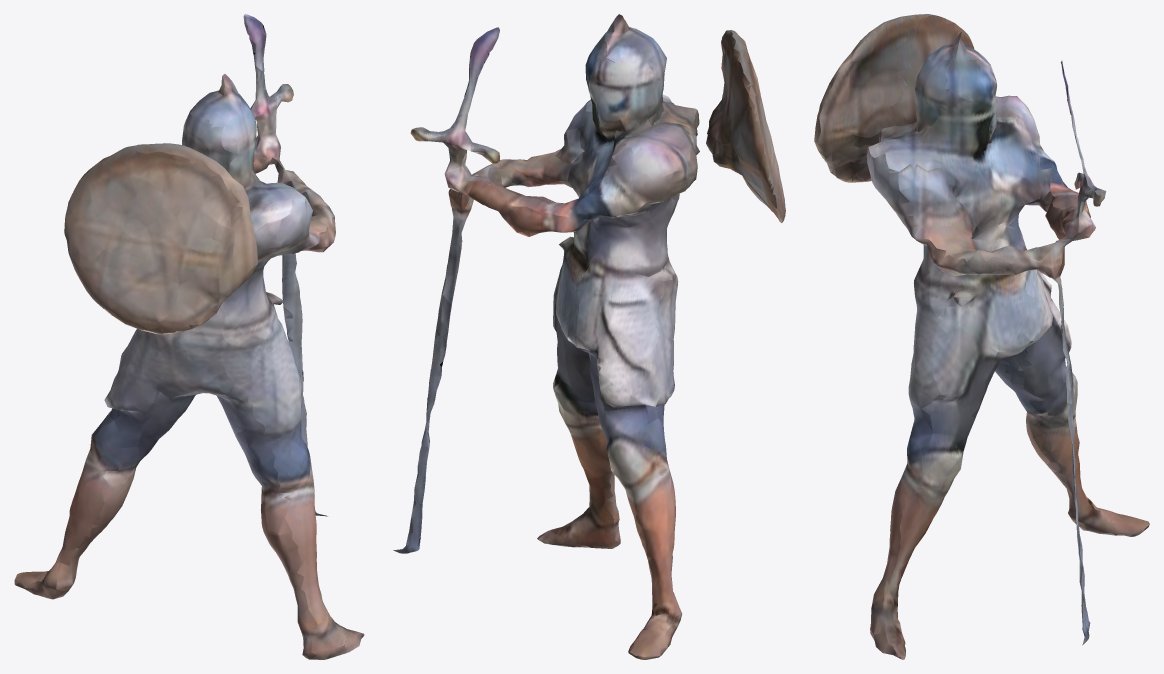
3 renders of one model, left to right at view 1: azimuth 30°, elevation 25°; view 2: azimuth 150°, elevation 25°; view 3: azimuth 270°, elevation 25°, orthographic.
Visible parts, largest first — view 1: world; view 2: world; view 3: world.
Part boxes in pixels (x1=…): world: x1=14, y1=14, x2=364, y2=659; world: x1=393, y1=14, x2=785, y2=659; world: x1=814, y1=14, x2=1149, y2=659.
Bounding box in the file's own units: 0.5305 × 0.913 × 0.4769.
1 material, 1 textured.
